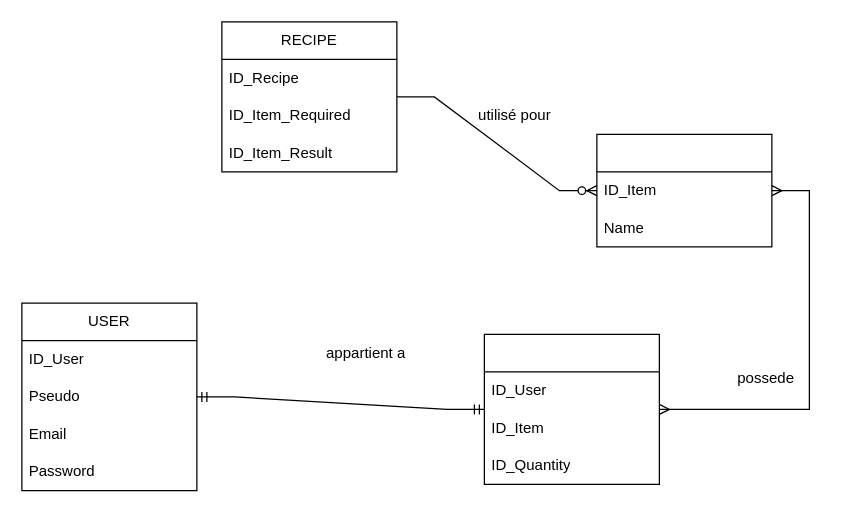
Image size: 843x513. Some labels were removed from this diagram. The box of each missing label's shape, as (x1, y1, x2, y2) in pixels:
INVENTORY: (483, 333, 659, 484)
ITEMS: (596, 133, 772, 247)
